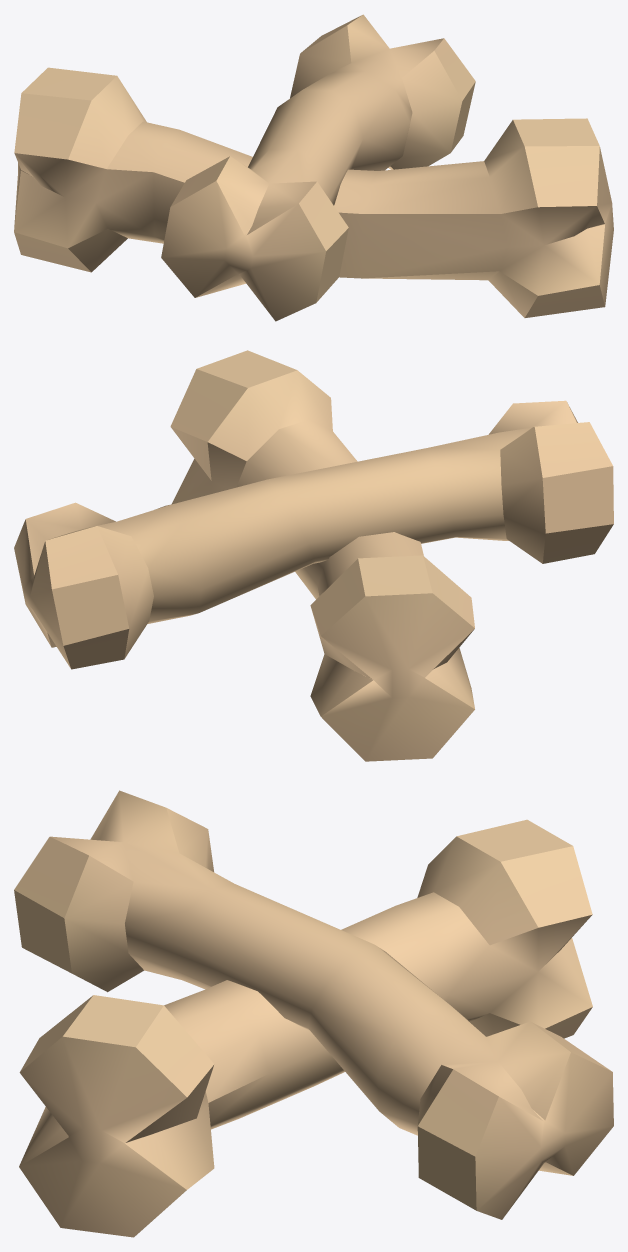
File: Bones_2.glb
The picture shows the model from 3 angles, top to bottom: view 1: azimuth 30°, elevation 25°; view 2: azimuth 150°, elevation 25°; view 3: azimuth 270°, elevation 25°; orthographic projection. The views are drawn at different scales.
Visible parts, largest first — view 1: Bones_2; view 2: Bones_2; view 3: Bones_2.
Part boxes in pixels (<box>): Bones_2: <box>14,14,613,321</box>; Bones_2: <box>14,350,613,761</box>; Bones_2: <box>14,790,613,1237</box>.
Bounding box in the file's own units: 0.3083 × 0.1314 × 0.2998.
1 material, 1 textured.
